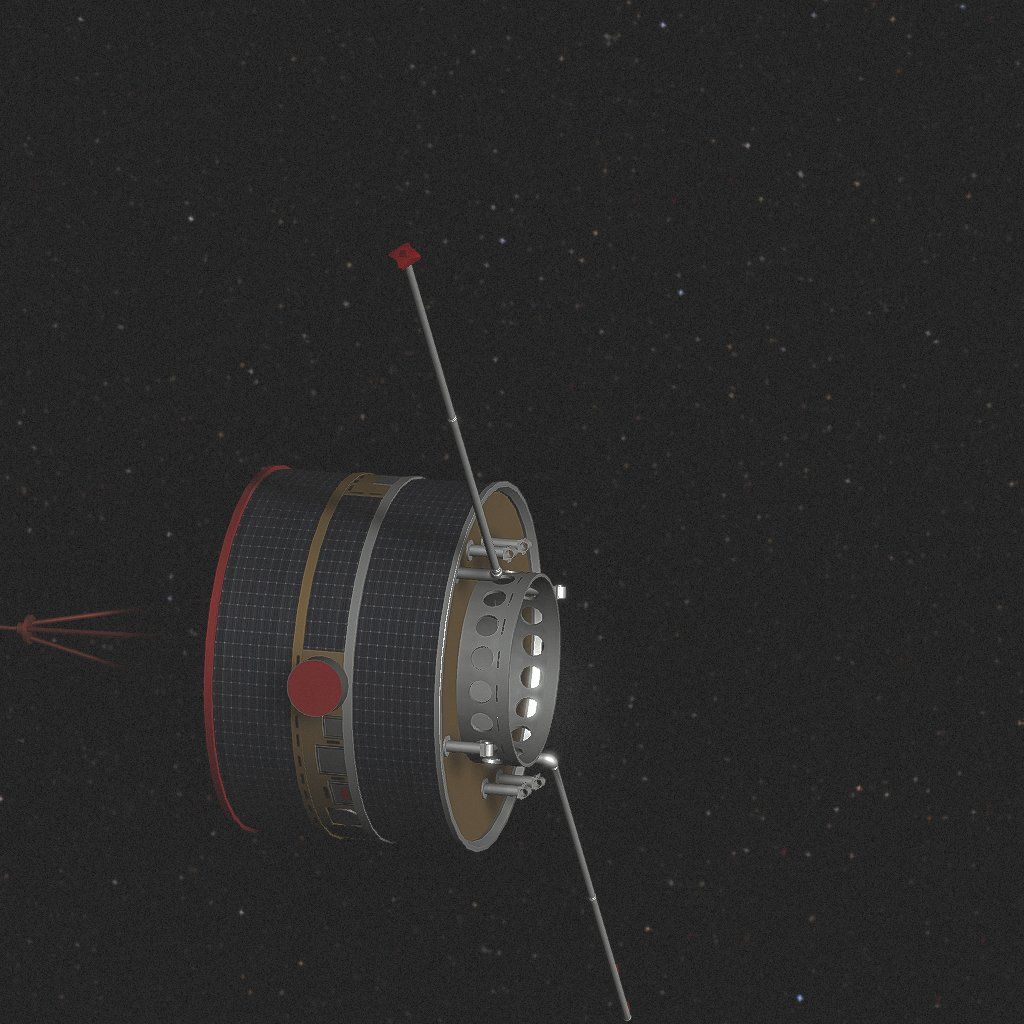double_star: (19, 266, 608, 997)
